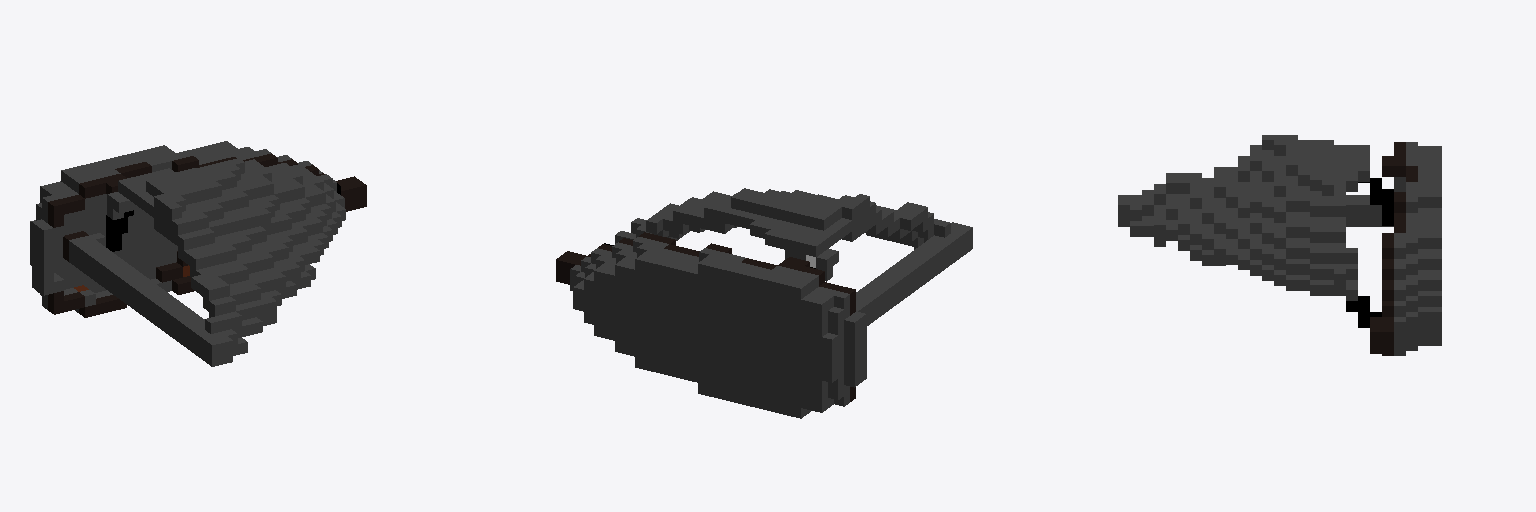
3 renders of one model, left to right at view 1: azimuth 30°, elevation 25°; view 2: azimuth 150°, elevation 25°; view 3: azimuth 270°, elevation 25°, orthographic.
Visible parts, largest first — view 1: boat1; view 2: boat1; view 3: boat1.
Part boxes in pixels (x1,y1,x2,y2): boat1: (30, 141, 366, 366); boat1: (556, 188, 972, 418); boat1: (1118, 135, 1441, 355).
Size of the model in its own units: 30 by 14 by 27.
Materials: 1 (1 with a texture image).